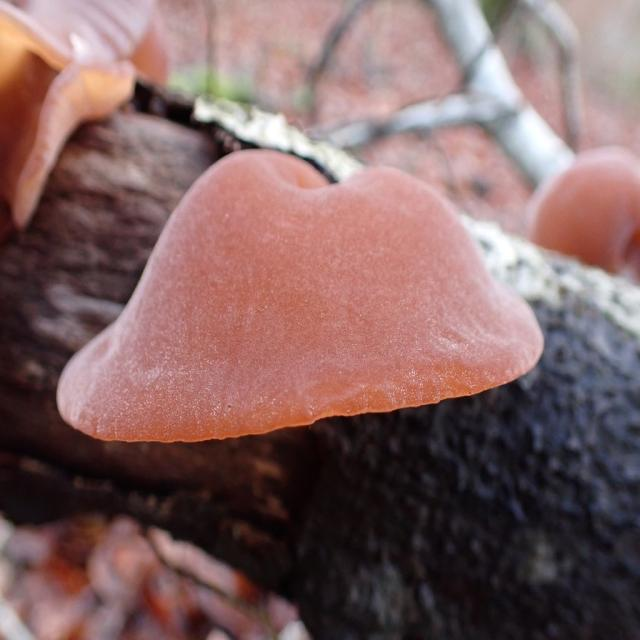Matang: (44, 138, 552, 452)
